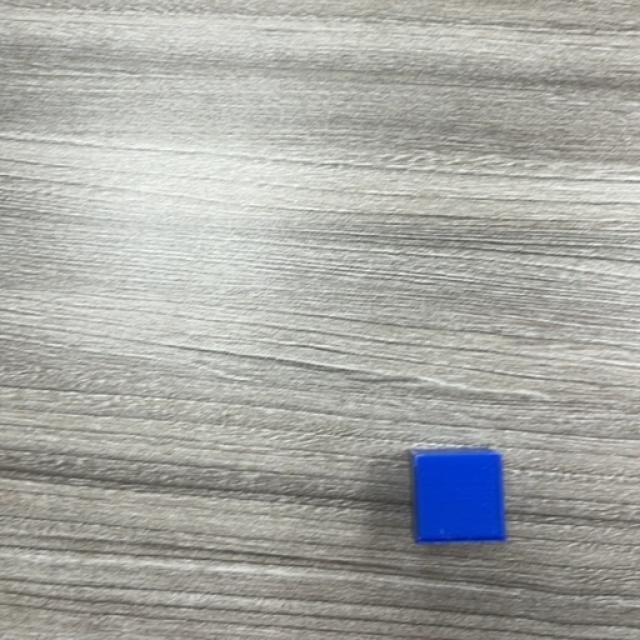Azul: (410, 450, 509, 548)
